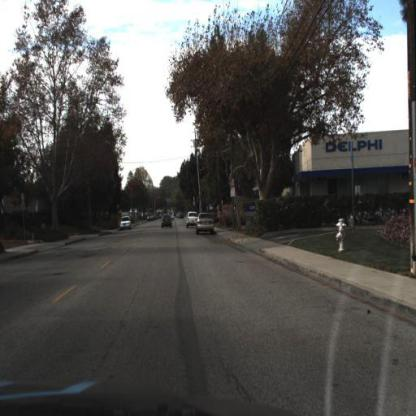car: (196, 210, 217, 236), (160, 209, 178, 232), (197, 214, 214, 236), (120, 215, 135, 234), (184, 211, 199, 230)
